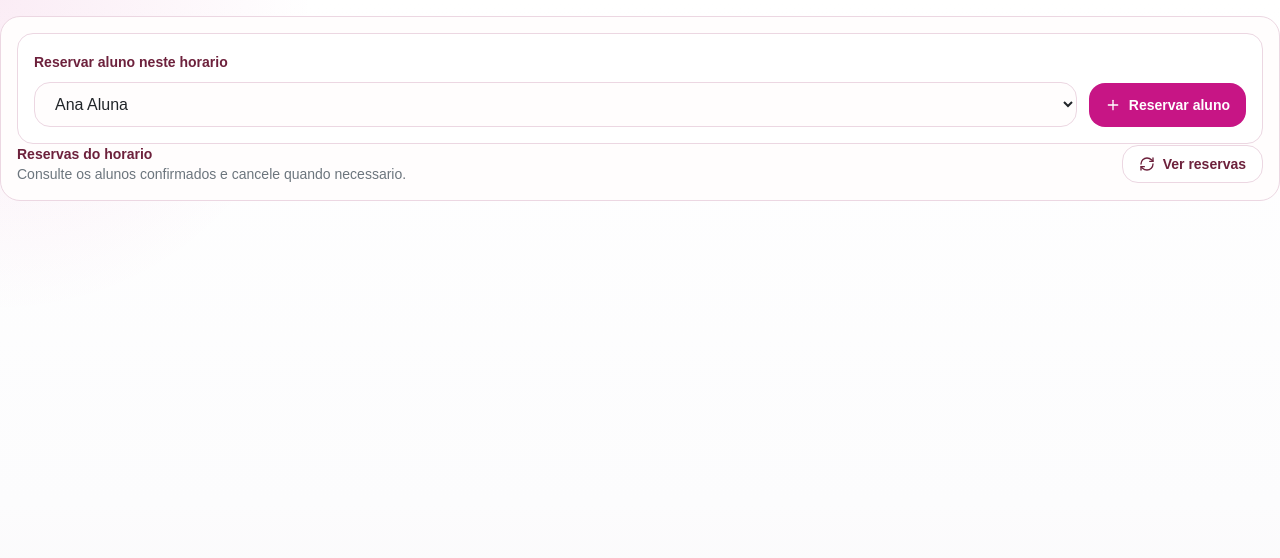
it: SlotBookingsPanel › atualiza vagas e bloqueia novo envio para o mesmo aluno apos reservar
Click the button "Reservar aluno".
click(1167, 105)  # box 1089,83 -> 1246,127
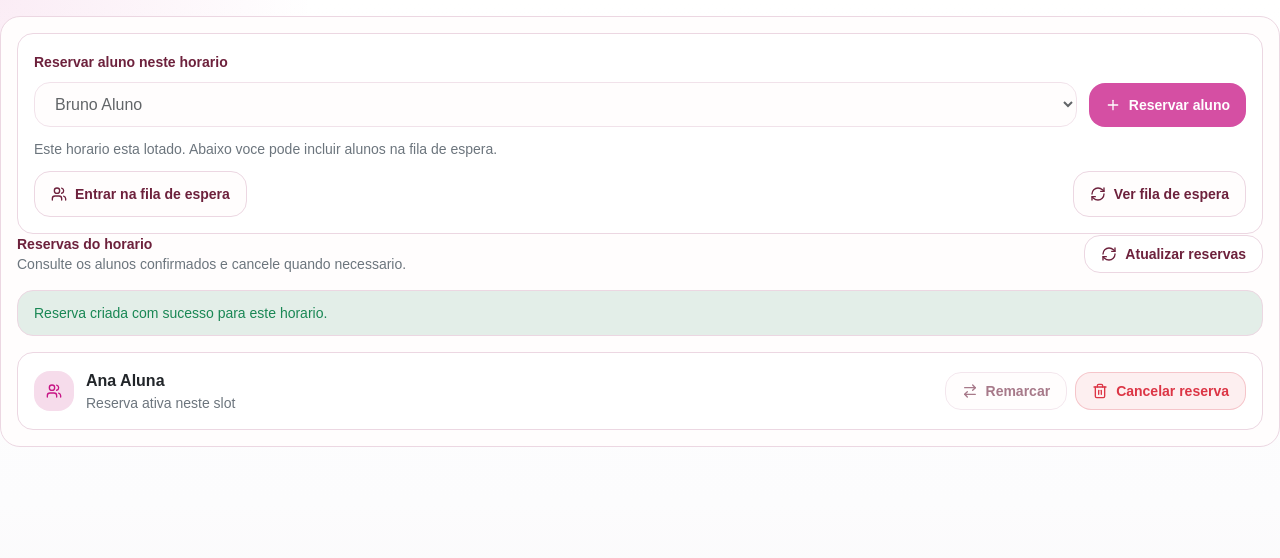
expect the text "Reserva criada com sucesso para este horario." is shown: met, box 17,290 -> 1263,336
expect the text "Este horario esta lotado. Abaixo voce pode incluir alunos na fila de espera." is shown: met, box 34,141 -> 497,157
